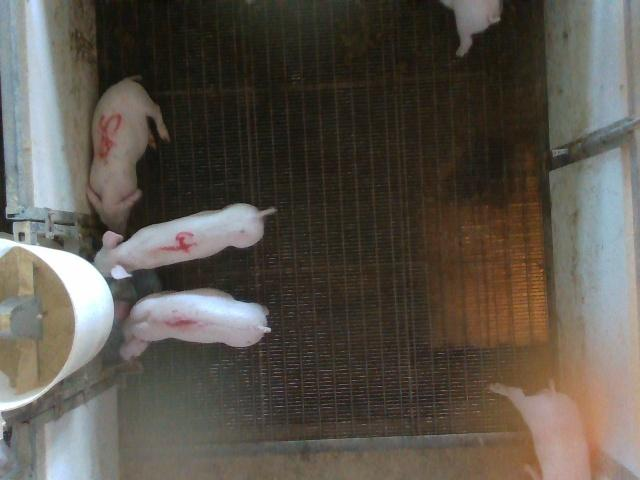pig-1: (115, 289, 270, 360)
pig-4: (94, 204, 276, 278)
pig-5: (88, 76, 170, 234)
